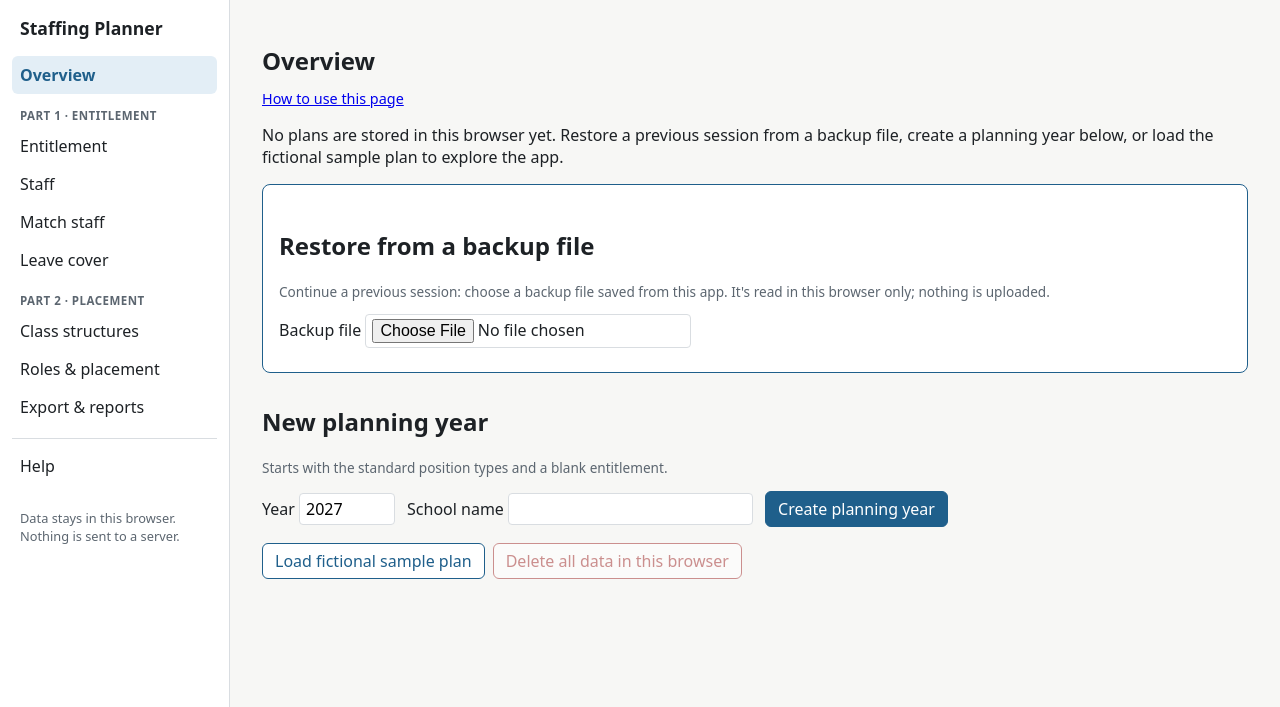
Staff (Part 1) and roles & placement (Part 2) › shows Week A / Week B columns in the grid when someone works fortnightly
Click the button "Load fictional sample plan": x=373, y=561 [262,543,485,579]
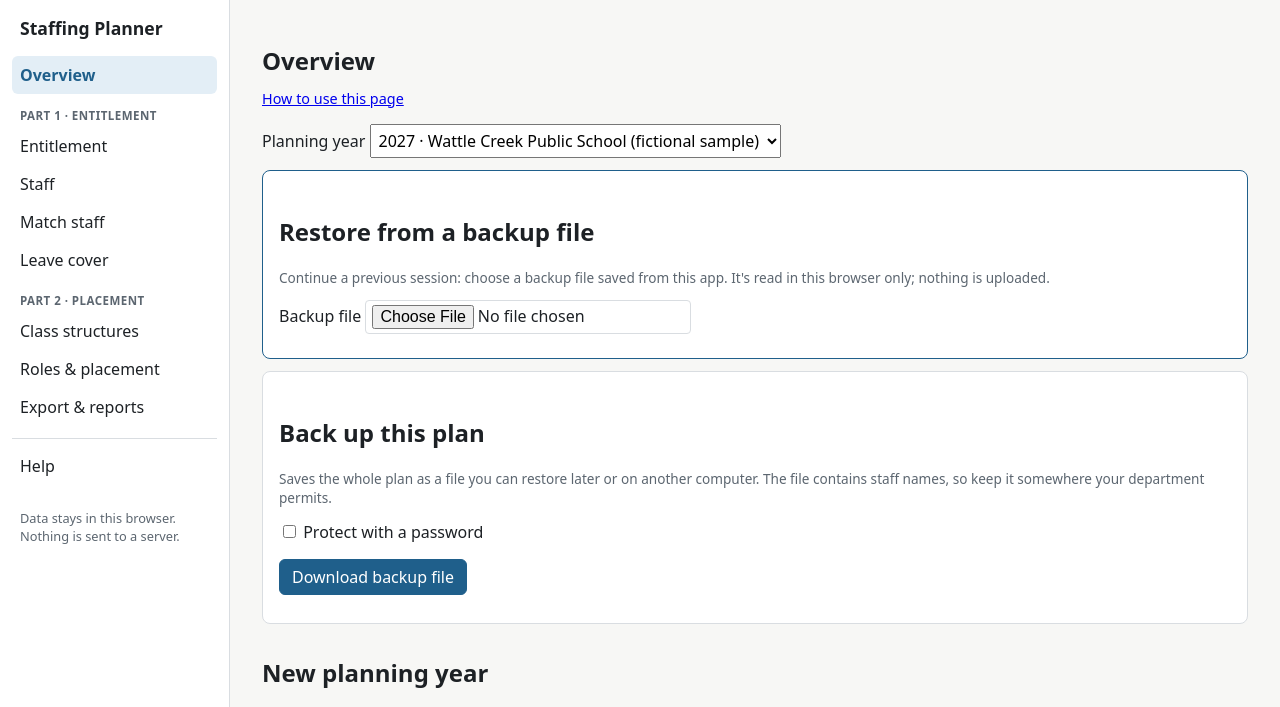
Click the link "Roles & placement": x=90, y=369 [20,358,160,380]
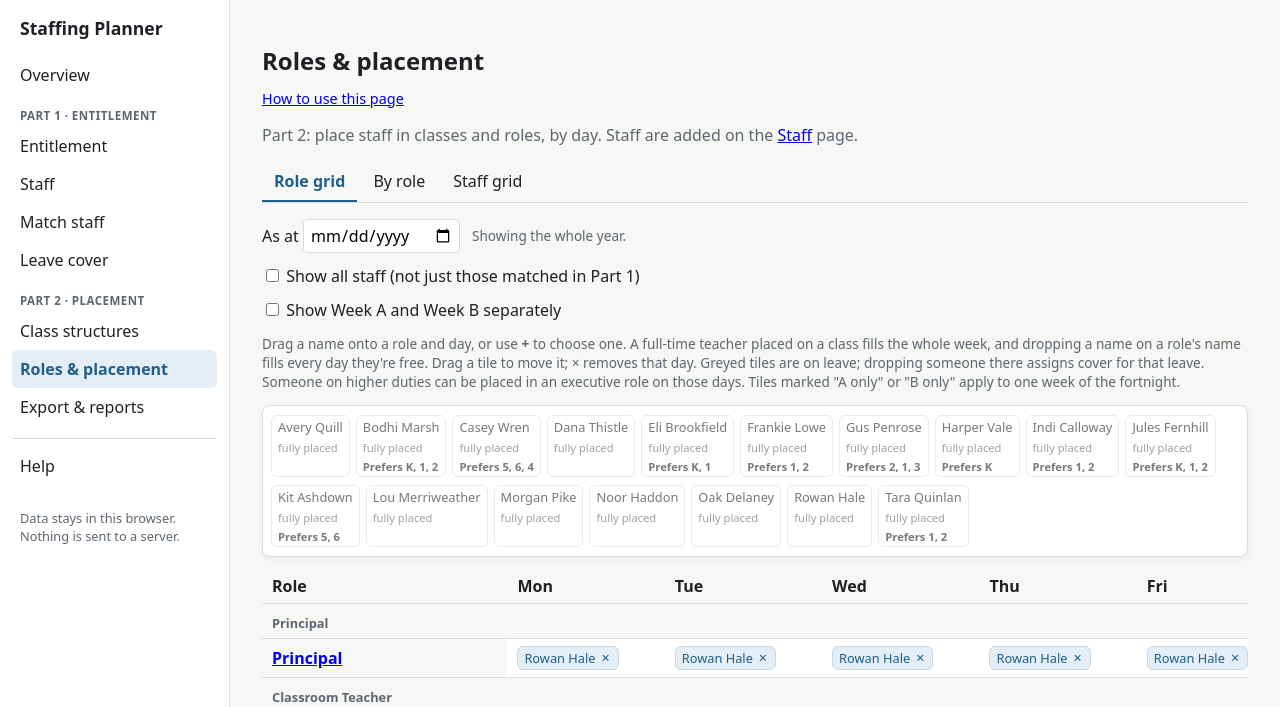
Expected: the heading "Roles & placement" is shown, [262,44,484,77]
Click the link "Staff grid": x=488, y=181 [453,170,522,192]
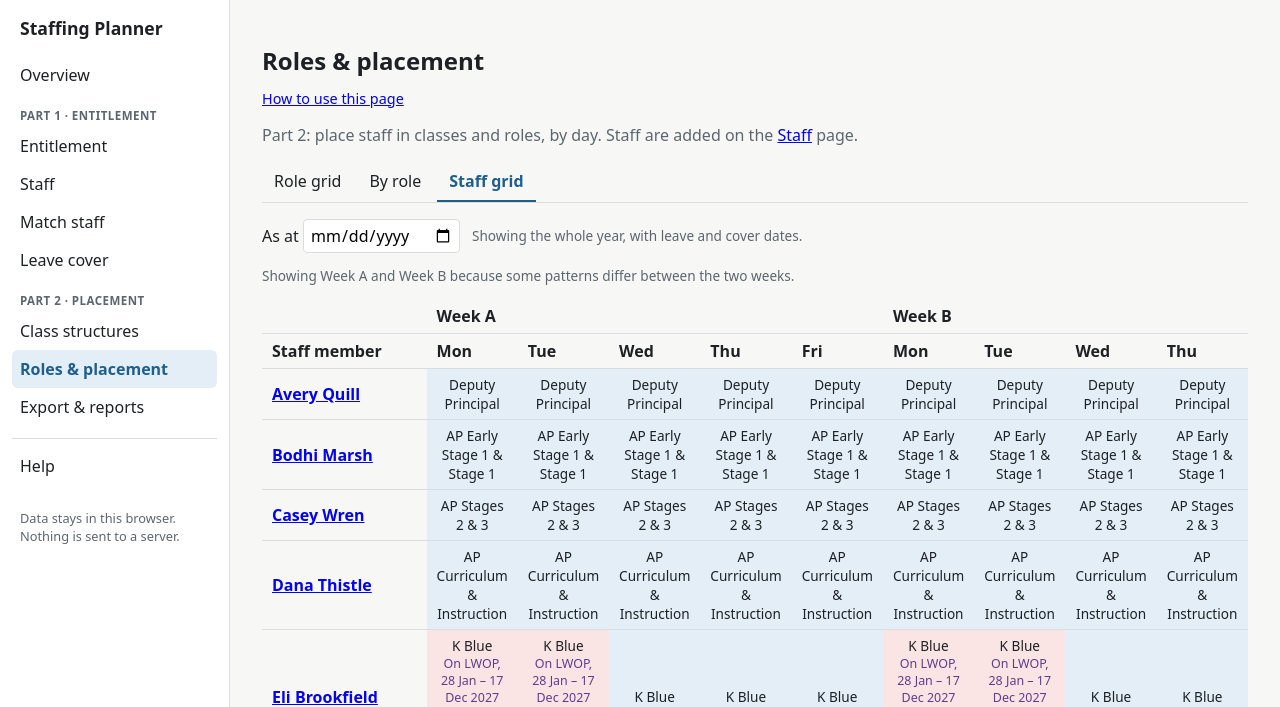
Expected: the column heading "Week A" is shown, [427,299,883,334]
